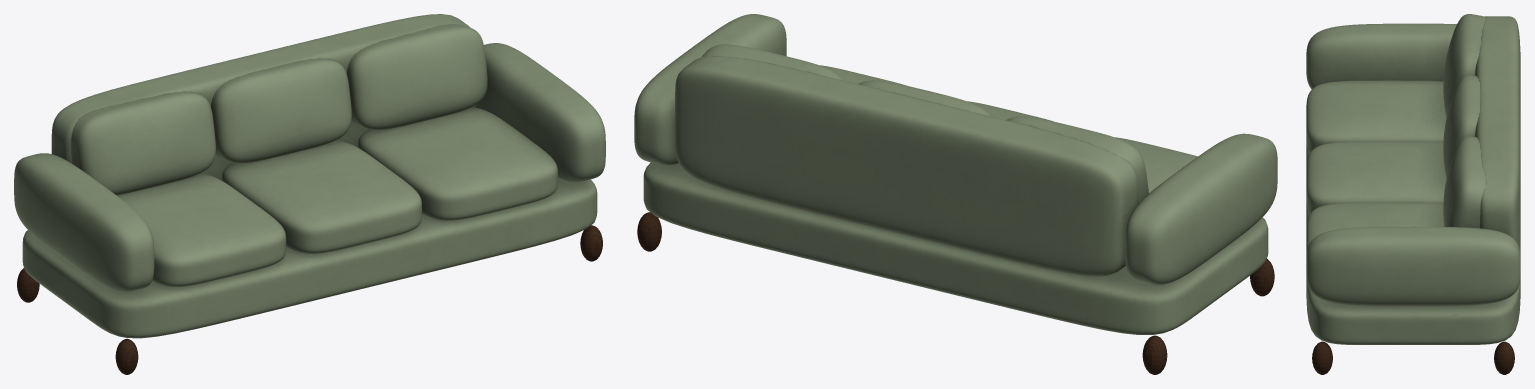
File: rolled-arm-sage.glb
3 views of the same model, side by side, from view 1: azimuth 30°, elevation 25°; view 2: azimuth 150°, elevation 25°; view 3: azimuth 270°, elevation 25° (orthographic). The views are drawn at different scales.
Visible parts, largest first — view 1: fabric_primary, wood_legs; view 2: fabric_primary, wood_legs; view 3: fabric_primary, wood_legs.
Boxes of the visible parts, x1,y1,x2,y2 form: fabric_primary: (14, 14, 605, 338); wood_legs: (17, 225, 602, 374); fabric_primary: (634, 14, 1277, 334); wood_legs: (637, 212, 1274, 374); fabric_primary: (1306, 14, 1520, 344); wood_legs: (1312, 341, 1514, 374).
Bounding box in the file's own units: 2.29 × 0.8252 × 0.92.
2 materials, 2 textured.
